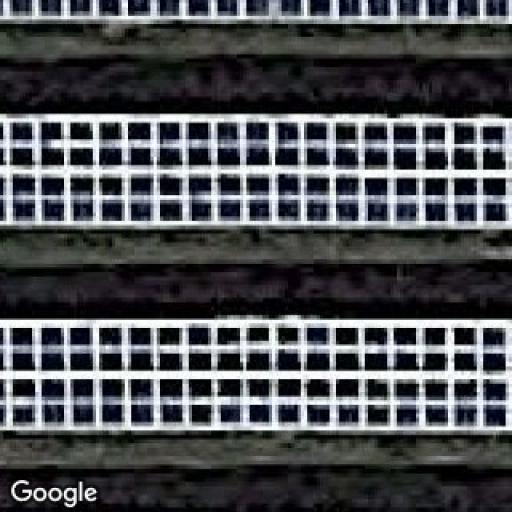solar-panel: (0, 112, 512, 230), (0, 317, 512, 430), (0, 0, 512, 27)
